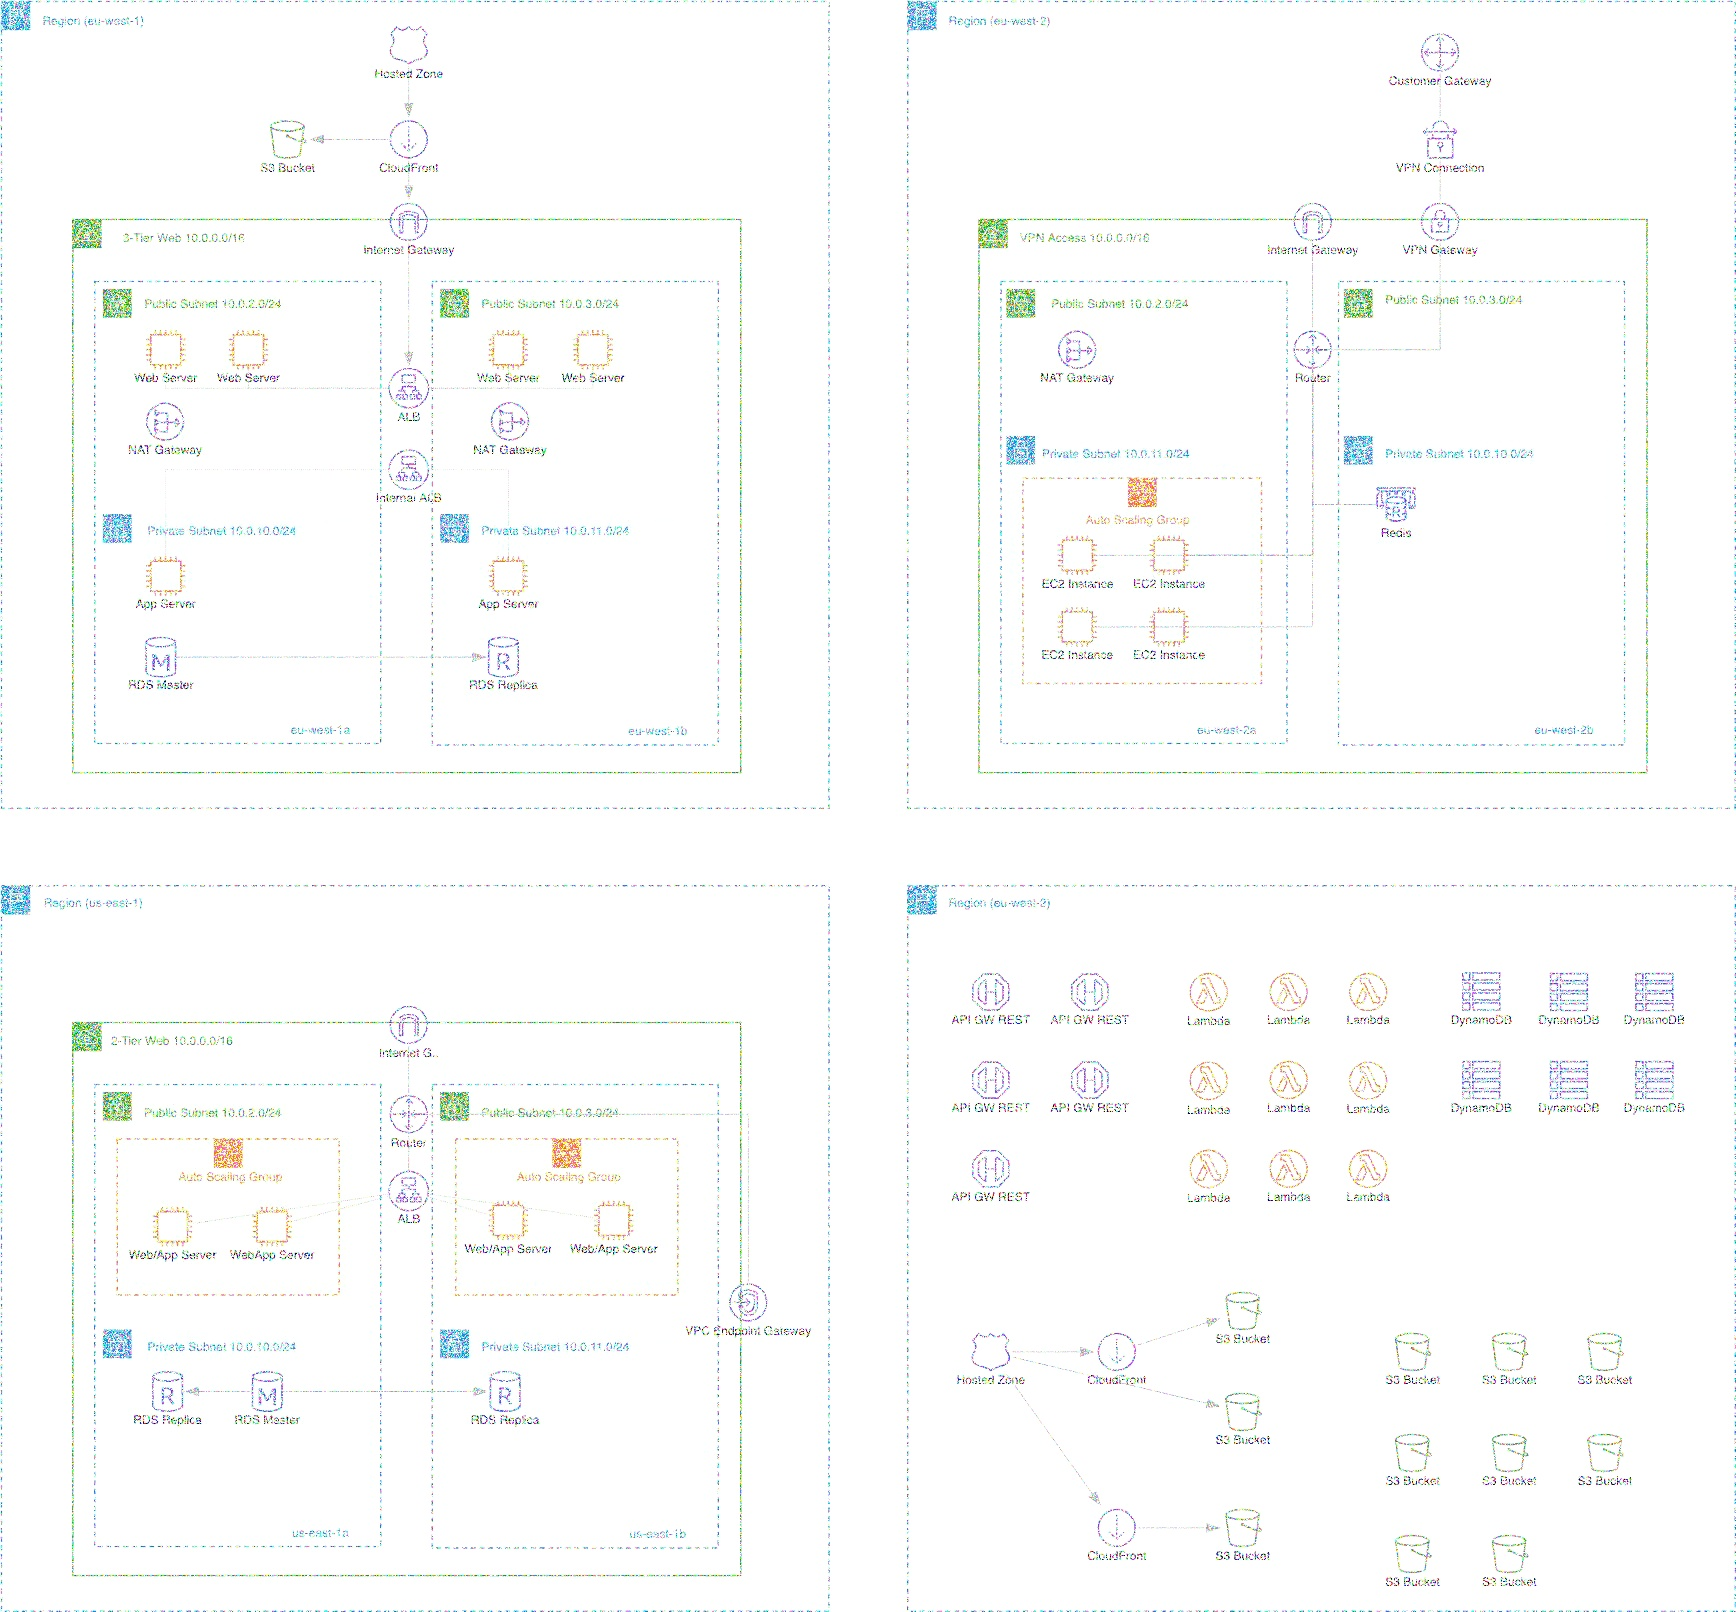ALB: (377, 439, 431, 490), (384, 366, 435, 411), (384, 1165, 432, 1212)
API-Gateway: (965, 963, 1017, 1015), (965, 1055, 1016, 1101), (1064, 967, 1115, 1013), (1064, 1057, 1113, 1101), (968, 1145, 1012, 1189)
Auto Scaling: (209, 1133, 250, 1173), (545, 1136, 590, 1172), (1127, 477, 1159, 507)
Cloudfront: (1092, 1325, 1144, 1377), (1093, 1501, 1140, 1550), (385, 117, 432, 162)
Customer Gateway: (1418, 28, 1468, 78)
EC2: (476, 319, 538, 375), (564, 321, 625, 374), (219, 319, 278, 373), (482, 549, 540, 602), (141, 323, 196, 376), (243, 1200, 299, 1249), (1052, 602, 1106, 650), (141, 551, 192, 604), (588, 1196, 641, 1244), (1053, 530, 1103, 579), (1144, 603, 1194, 651), (147, 1200, 197, 1249), (483, 1195, 535, 1242), (1147, 530, 1194, 578)
Endpoint: (724, 1276, 772, 1325)
Internet Gateway: (379, 194, 438, 244), (1288, 196, 1342, 246), (387, 1000, 433, 1045)
Lambda: (1338, 1052, 1395, 1104), (1182, 1055, 1235, 1105), (1259, 1143, 1314, 1194), (1260, 1056, 1316, 1104), (1184, 1142, 1234, 1192), (1184, 967, 1236, 1014), (1264, 967, 1316, 1015), (1344, 1145, 1395, 1193), (1344, 967, 1392, 1015)
NAT Gateway: (481, 394, 537, 449), (141, 394, 198, 447), (1053, 323, 1105, 373)
Private Subnet: (94, 506, 139, 548), (432, 508, 475, 547), (437, 1325, 474, 1361), (99, 1326, 136, 1362), (1004, 433, 1040, 467), (1342, 433, 1376, 468)
Public Subnet: (94, 276, 137, 325), (434, 274, 471, 324), (97, 1086, 139, 1125), (1340, 285, 1377, 322), (437, 1088, 474, 1123), (1004, 283, 1040, 321)
RDS: (481, 623, 529, 686), (134, 631, 190, 682), (147, 1365, 191, 1416), (482, 1367, 527, 1416), (245, 1366, 290, 1415)
Redis: (1370, 482, 1421, 526)
Region: (905, 882, 941, 919), (0, 881, 33, 918), (906, 0, 941, 33), (0, 0, 34, 32)
Route53: (381, 14, 436, 69), (960, 1328, 1017, 1373)
S3: (1387, 1427, 1437, 1478), (1219, 1383, 1270, 1437), (261, 113, 312, 162), (1388, 1527, 1437, 1577), (1487, 1325, 1534, 1374), (1488, 1425, 1531, 1478), (1389, 1326, 1436, 1374), (1580, 1428, 1628, 1475), (1580, 1328, 1630, 1373), (1488, 1530, 1534, 1578), (1219, 1507, 1270, 1550), (1223, 1283, 1265, 1332)
Table: (1540, 1052, 1596, 1104), (1457, 963, 1509, 1015), (1630, 963, 1682, 1015), (1544, 965, 1593, 1016), (1458, 1053, 1506, 1105), (1630, 1055, 1680, 1104)
VP Gateway: (1414, 193, 1466, 246)
VPC Router: (1418, 113, 1465, 162), (1288, 326, 1335, 373), (387, 1090, 432, 1138)
